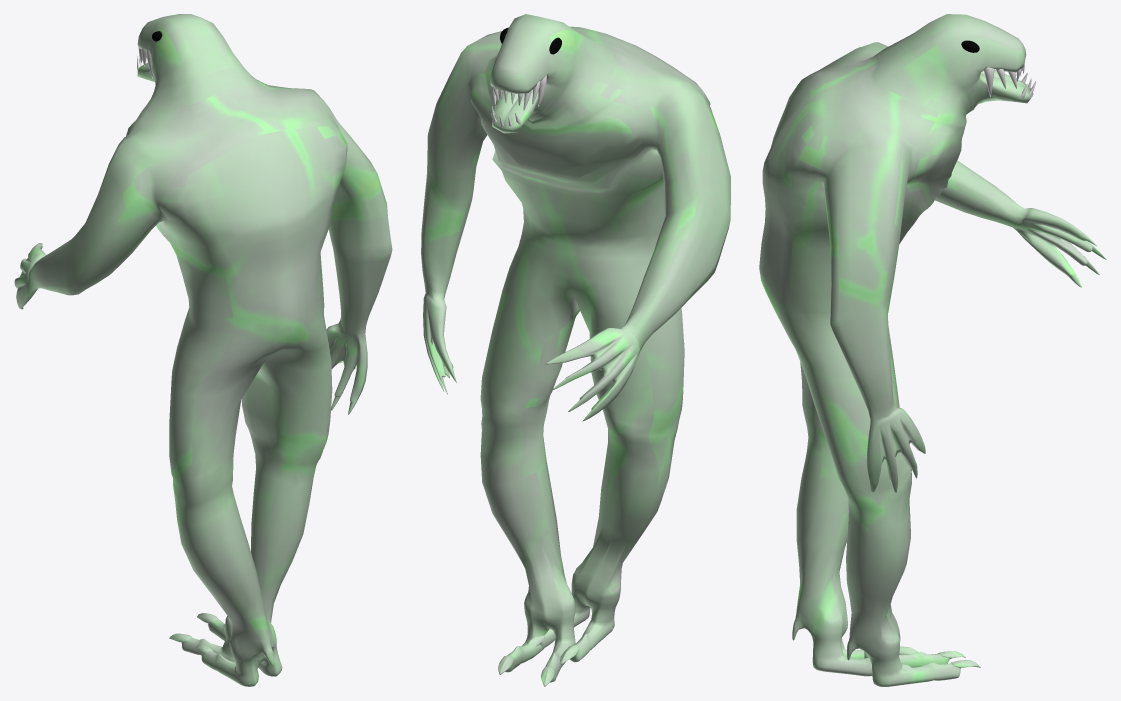
The model's file is Berserkerandar.0085.obj.
The picture shows the model from 3 angles, left to right: view 1: azimuth 30°, elevation 25°; view 2: azimuth 150°, elevation 25°; view 3: azimuth 270°, elevation 25°; orthographic projection. The views are drawn at different scales.
Parts seen in each view (by area): view 1: polySurface27; view 2: polySurface27; view 3: polySurface27.
Part boxes in pixels (x1,y1,x2,y2): polySurface27: [14, 14, 392, 686]; polySurface27: [421, 14, 730, 686]; polySurface27: [759, 14, 1106, 686].
Bounding box in the file's own units: 11.67 × 24.07 × 11.65.
Materials: 1 (1 with a texture image).
